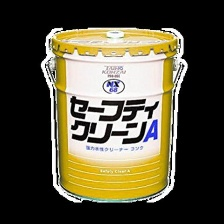cleaning_solution: (44, 24, 182, 205)
